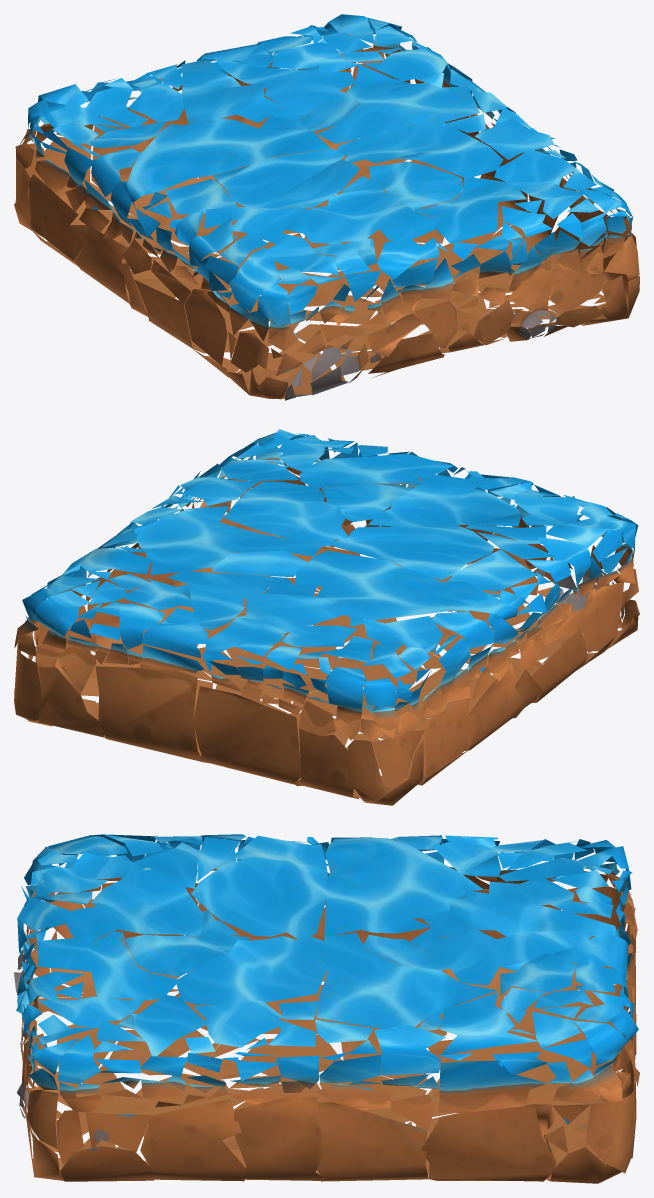
Rendered from water.glb.
The picture shows the model from 3 angles, top to bottom: view 1: azimuth 30°, elevation 25°; view 2: azimuth 150°, elevation 25°; view 3: azimuth 270°, elevation 25°; orthographic projection. The views are drawn at different scales.
Visible parts, largest first — view 1: Mesh_0; view 2: Mesh_0; view 3: Mesh_0.
Part boxes in pixels (x1,y1,x2,y2): Mesh_0: [14, 14, 639, 400]; Mesh_0: [14, 429, 639, 805]; Mesh_0: [14, 834, 639, 1183].
Size of the model in its own units: 1.65 by 0.5376 by 1.91.
1 material, 1 textured.
